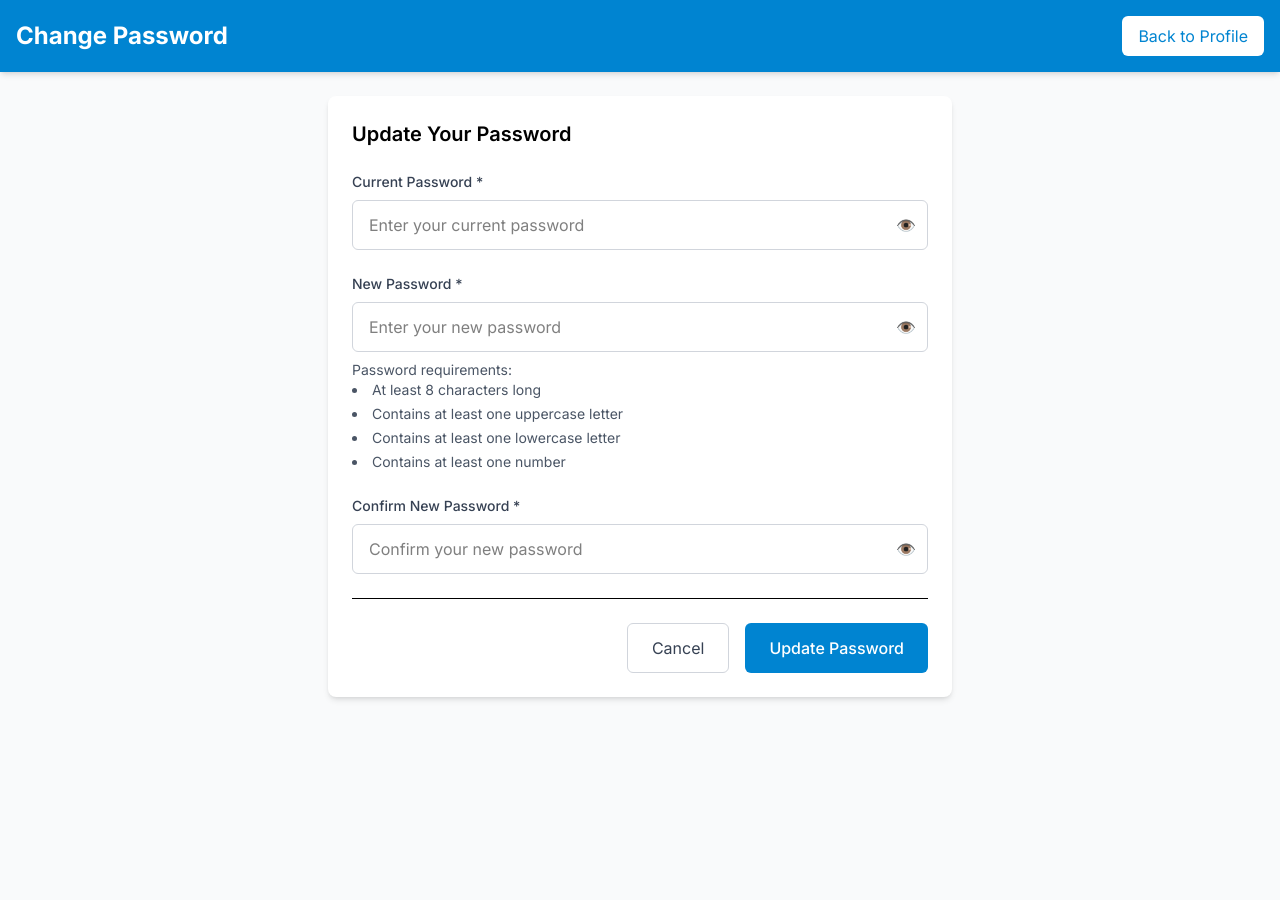
Test case: Profile Pages › ChangePasswordPage › validates password requirements
The image size is (1280, 900).
Type "weak" into the password field with placeholder "Enter your new password" at coordinates (640, 327), box 352,302 -> 928,352
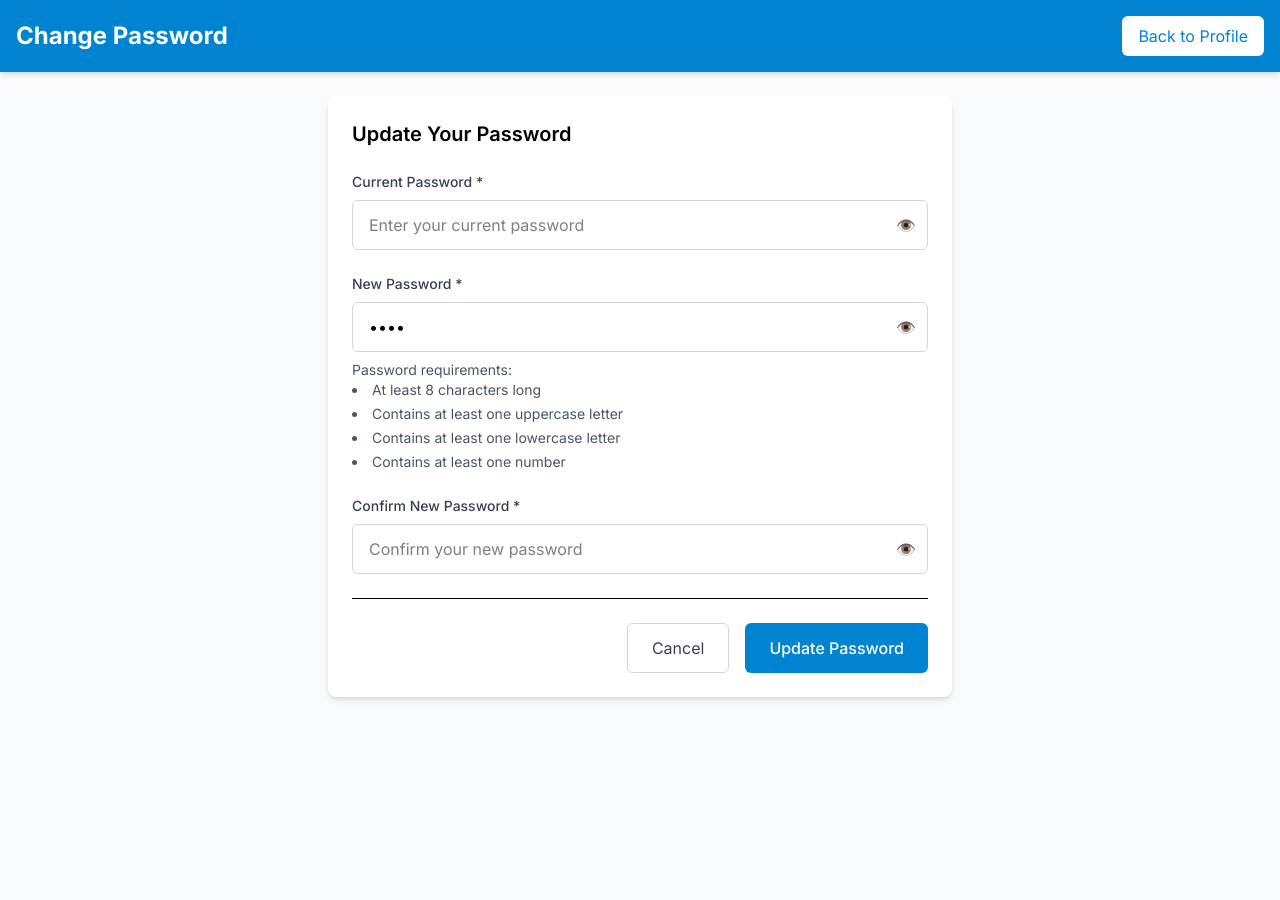
Click the button "Update Password" at coordinates (837, 648), box 745,623 -> 928,673
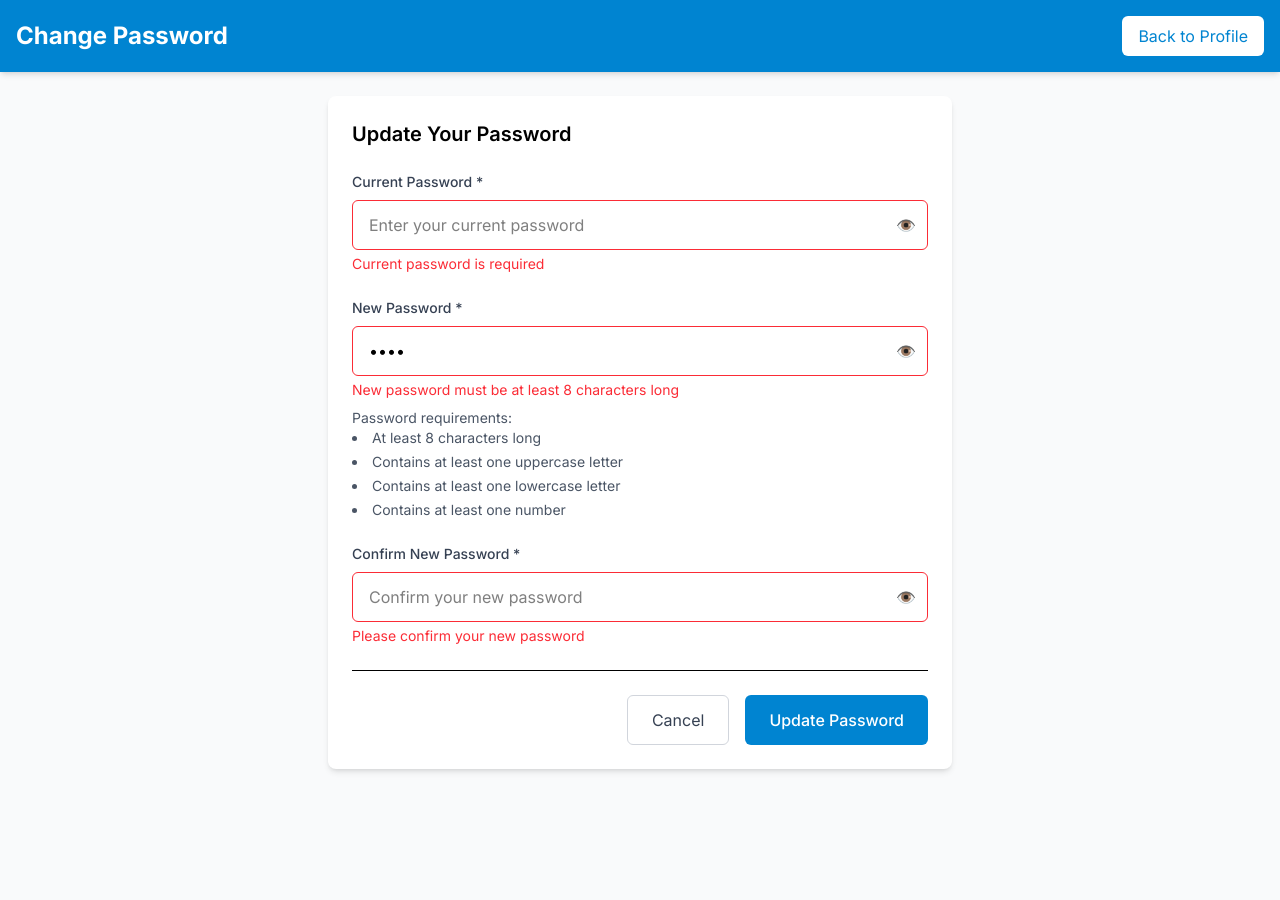
Expected: the text "New password must be at least 8 characters long" is shown, 352,381 -> 679,398
